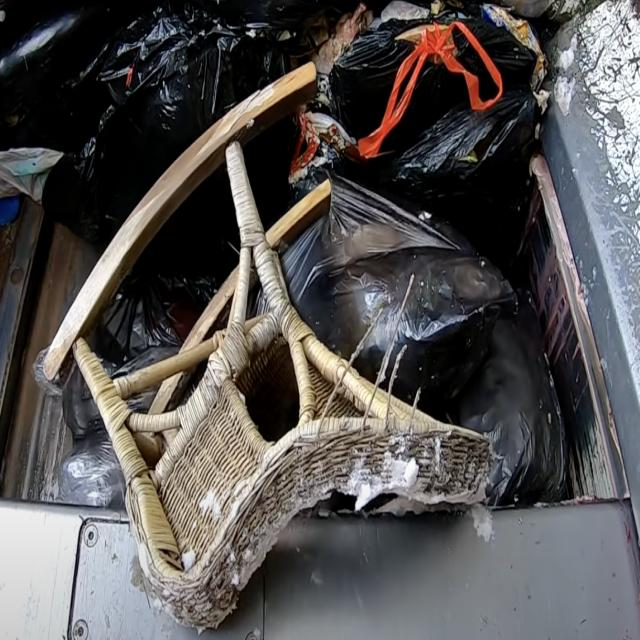bag: (284, 141, 565, 480), (51, 29, 337, 233), (332, 23, 545, 196)
furniture: (47, 93, 504, 625)
